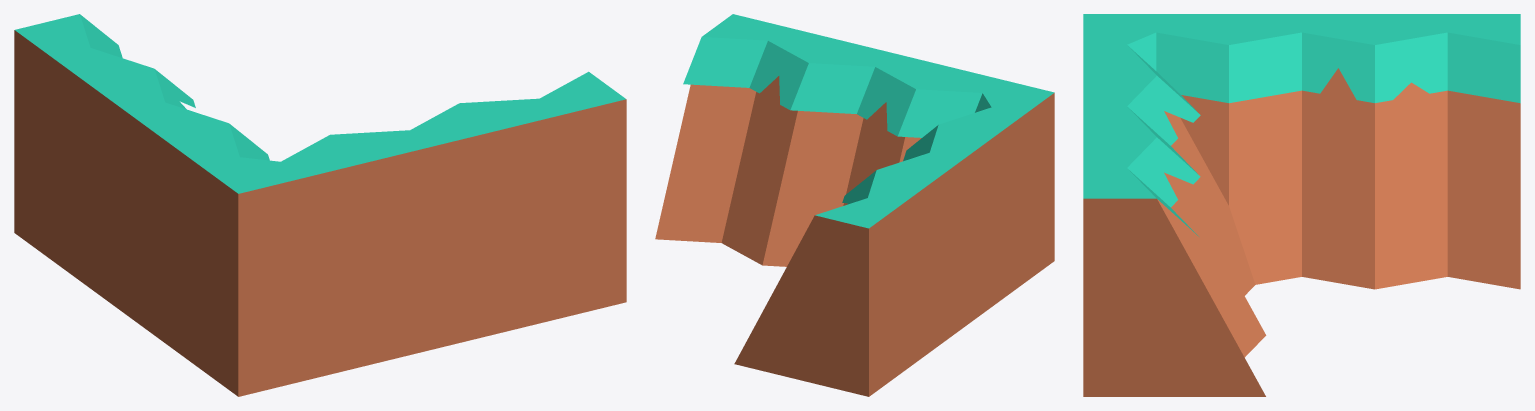
The model's file is cliff_halfCornerInner_rock.glb.
3 views of the same model, side by side, from view 1: azimuth 30°, elevation 25°; view 2: azimuth 150°, elevation 25°; view 3: azimuth 270°, elevation 25° (orthographic). The views are drawn at different scales.
Visible parts, largest first — view 1: cliff_halfCornerInner_rock; view 2: cliff_halfCornerInner_rock; view 3: cliff_halfCornerInner_rock.
Boxes of the visible parts, left/top/right/bottom form: cliff_halfCornerInner_rock: left=14, top=14, right=626, bottom=396; cliff_halfCornerInner_rock: left=655, top=14, right=1054, bottom=396; cliff_halfCornerInner_rock: left=1083, top=14, right=1520, bottom=396.
Size of the model in its own units: 1 by 0.5 by 1.
